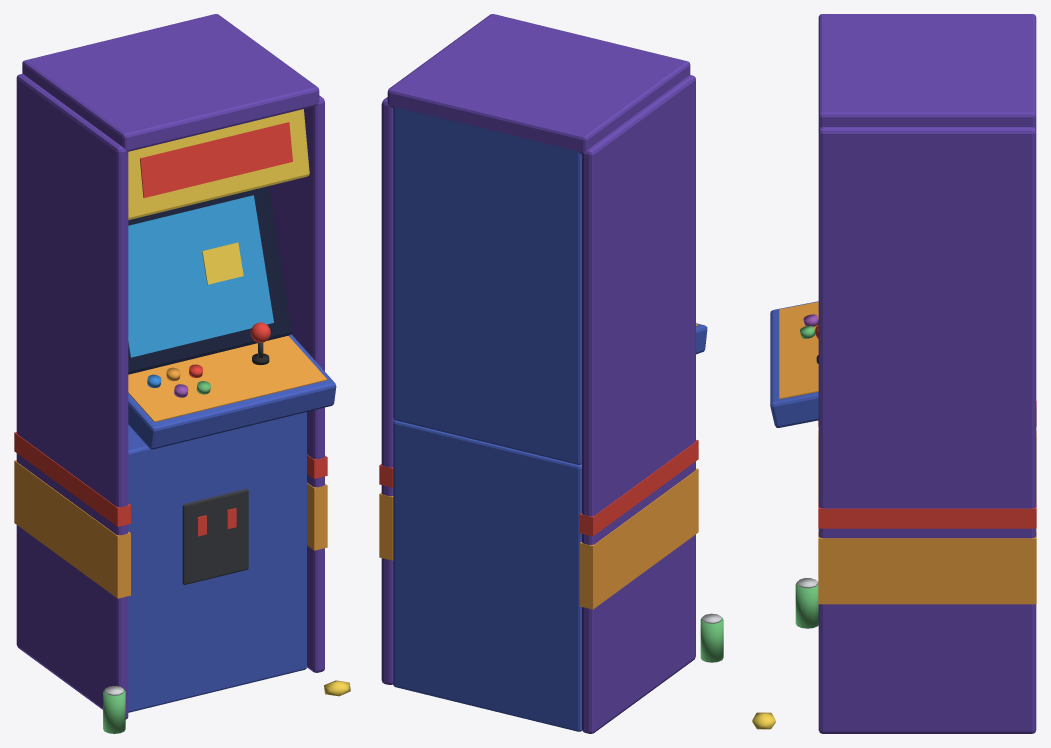
The model's file is arcadeCabinet.glb.
3 views of the same model, side by side, from view 1: azimuth 30°, elevation 25°; view 2: azimuth 150°, elevation 25°; view 3: azimuth 270°, elevation 25° (orthographic). The views are drawn at different scales.
Parts seen in each view (by area): view 1: body, joystick; view 2: body; view 3: body.
Part boxes in pixels (x1=…): body: x1=14, y1=14, x2=350, y2=733; joystick: x1=250, y1=322, x2=270, y2=365; body: x1=379, y1=14, x2=723, y2=733; body: x1=752, y1=14, x2=1036, y2=733.
Bounding box in the file's own units: 0.765 × 1.88 × 0.7836.
